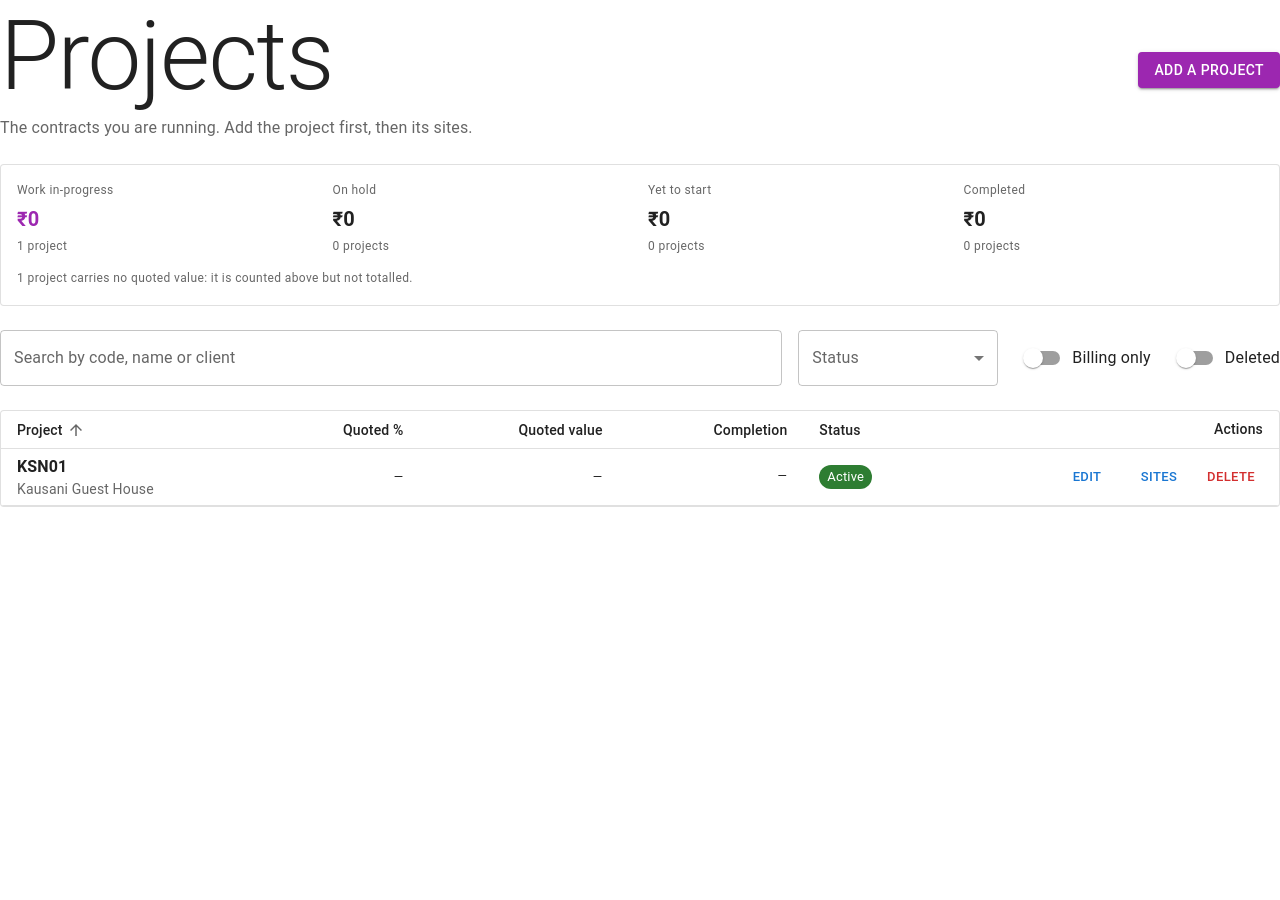
it: ProjectsPage — deleted projects › puts the server's refusal in front of the admin who has to act on it
Step 1. Click the button "Delete" → (1231, 477), box left=1199, top=462, right=1263, bottom=492
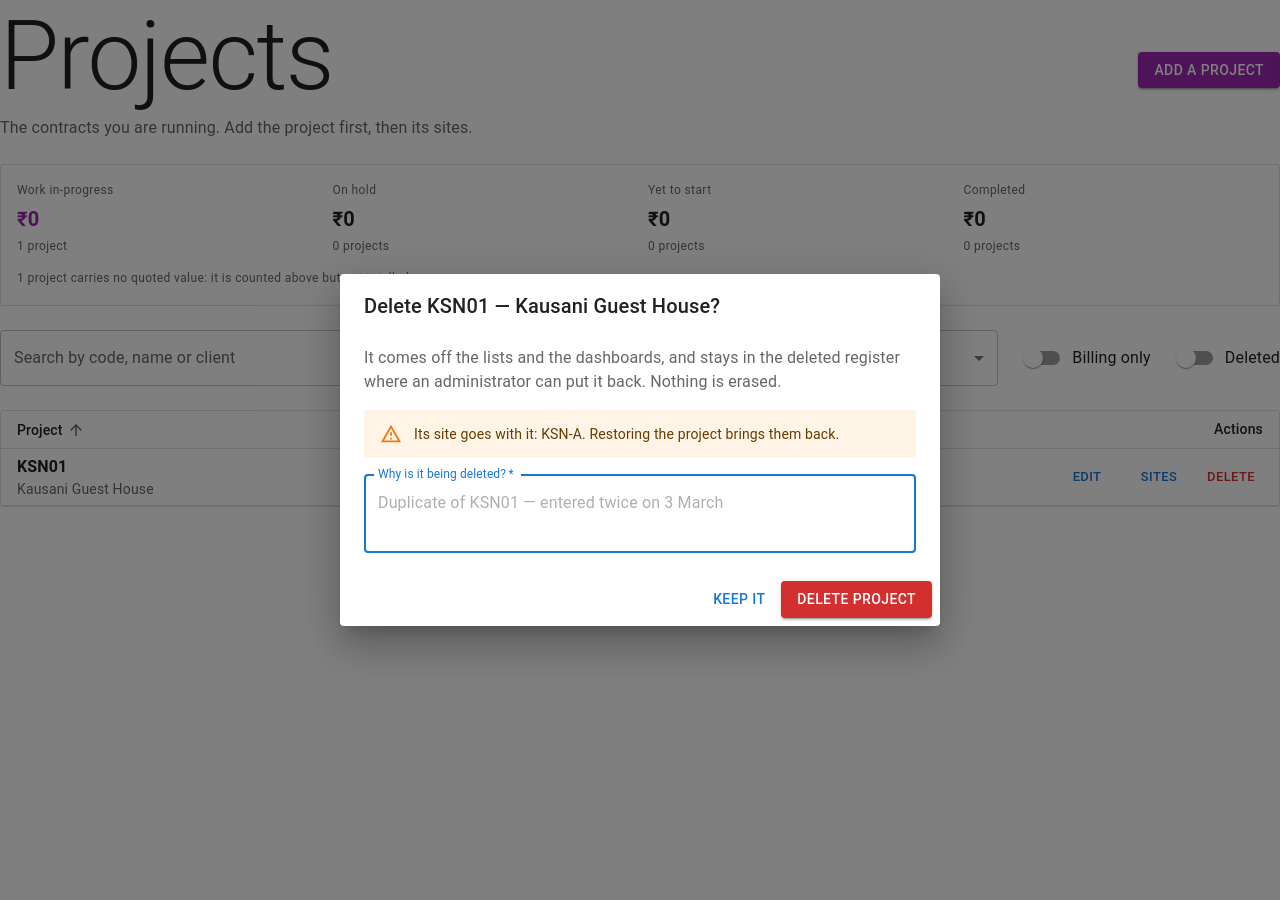
Step 2. Type "cleaning up" into the text box labelled "Why is it being deleted? *" → (640, 514), box left=378, top=491, right=902, bottom=537
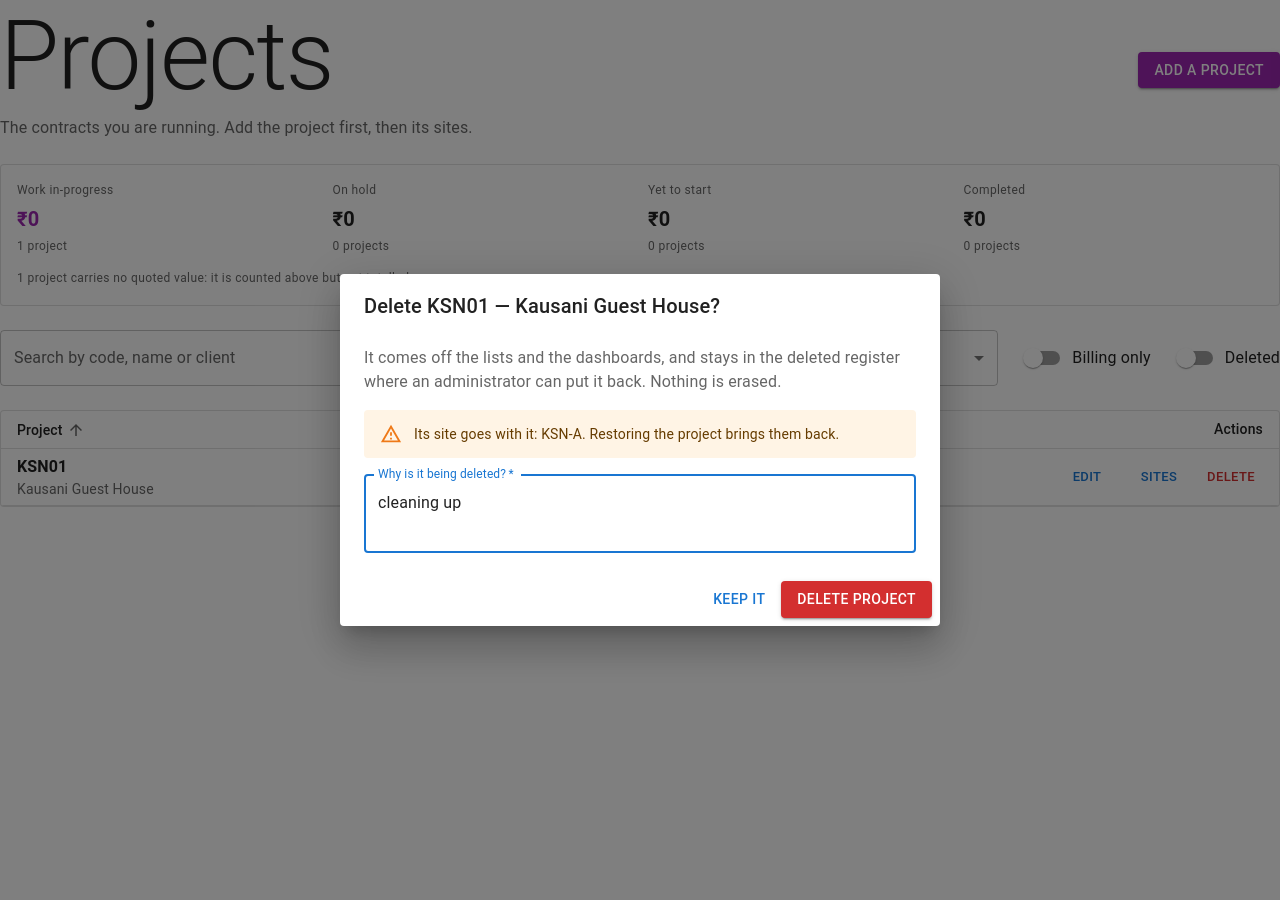
Step 3. Click the button "Delete project" → (857, 600), box left=781, top=581, right=932, bottom=618
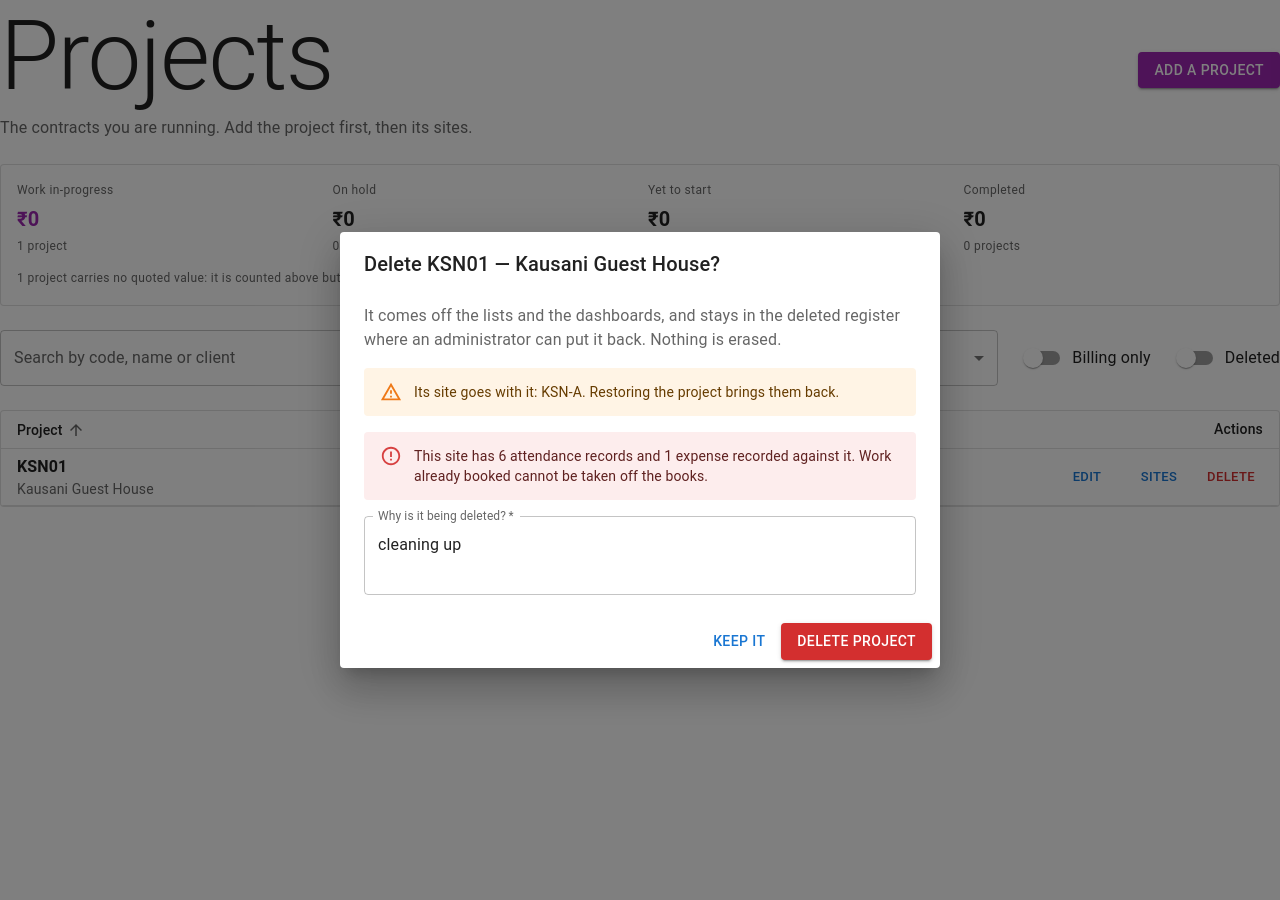
Expected: the button "Delete project" is shown, left=781, top=623, right=932, bottom=660
Expected: the text "6 attendance records" is shown, left=414, top=448, right=892, bottom=484
